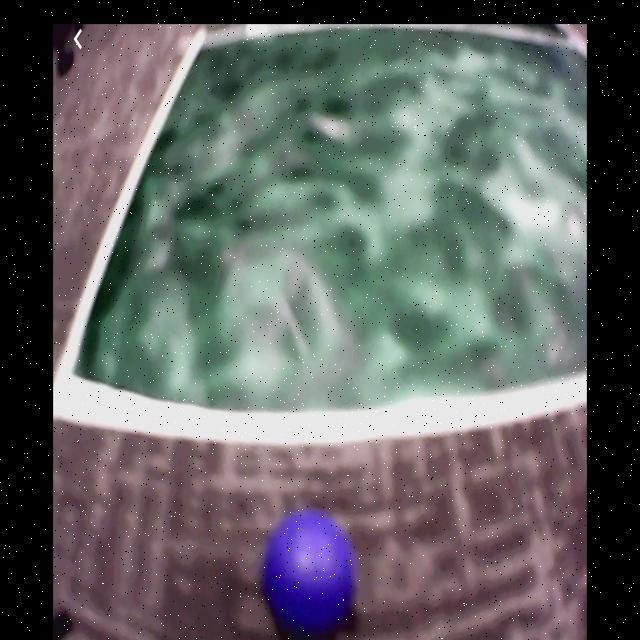ball: (263, 510, 354, 638)
